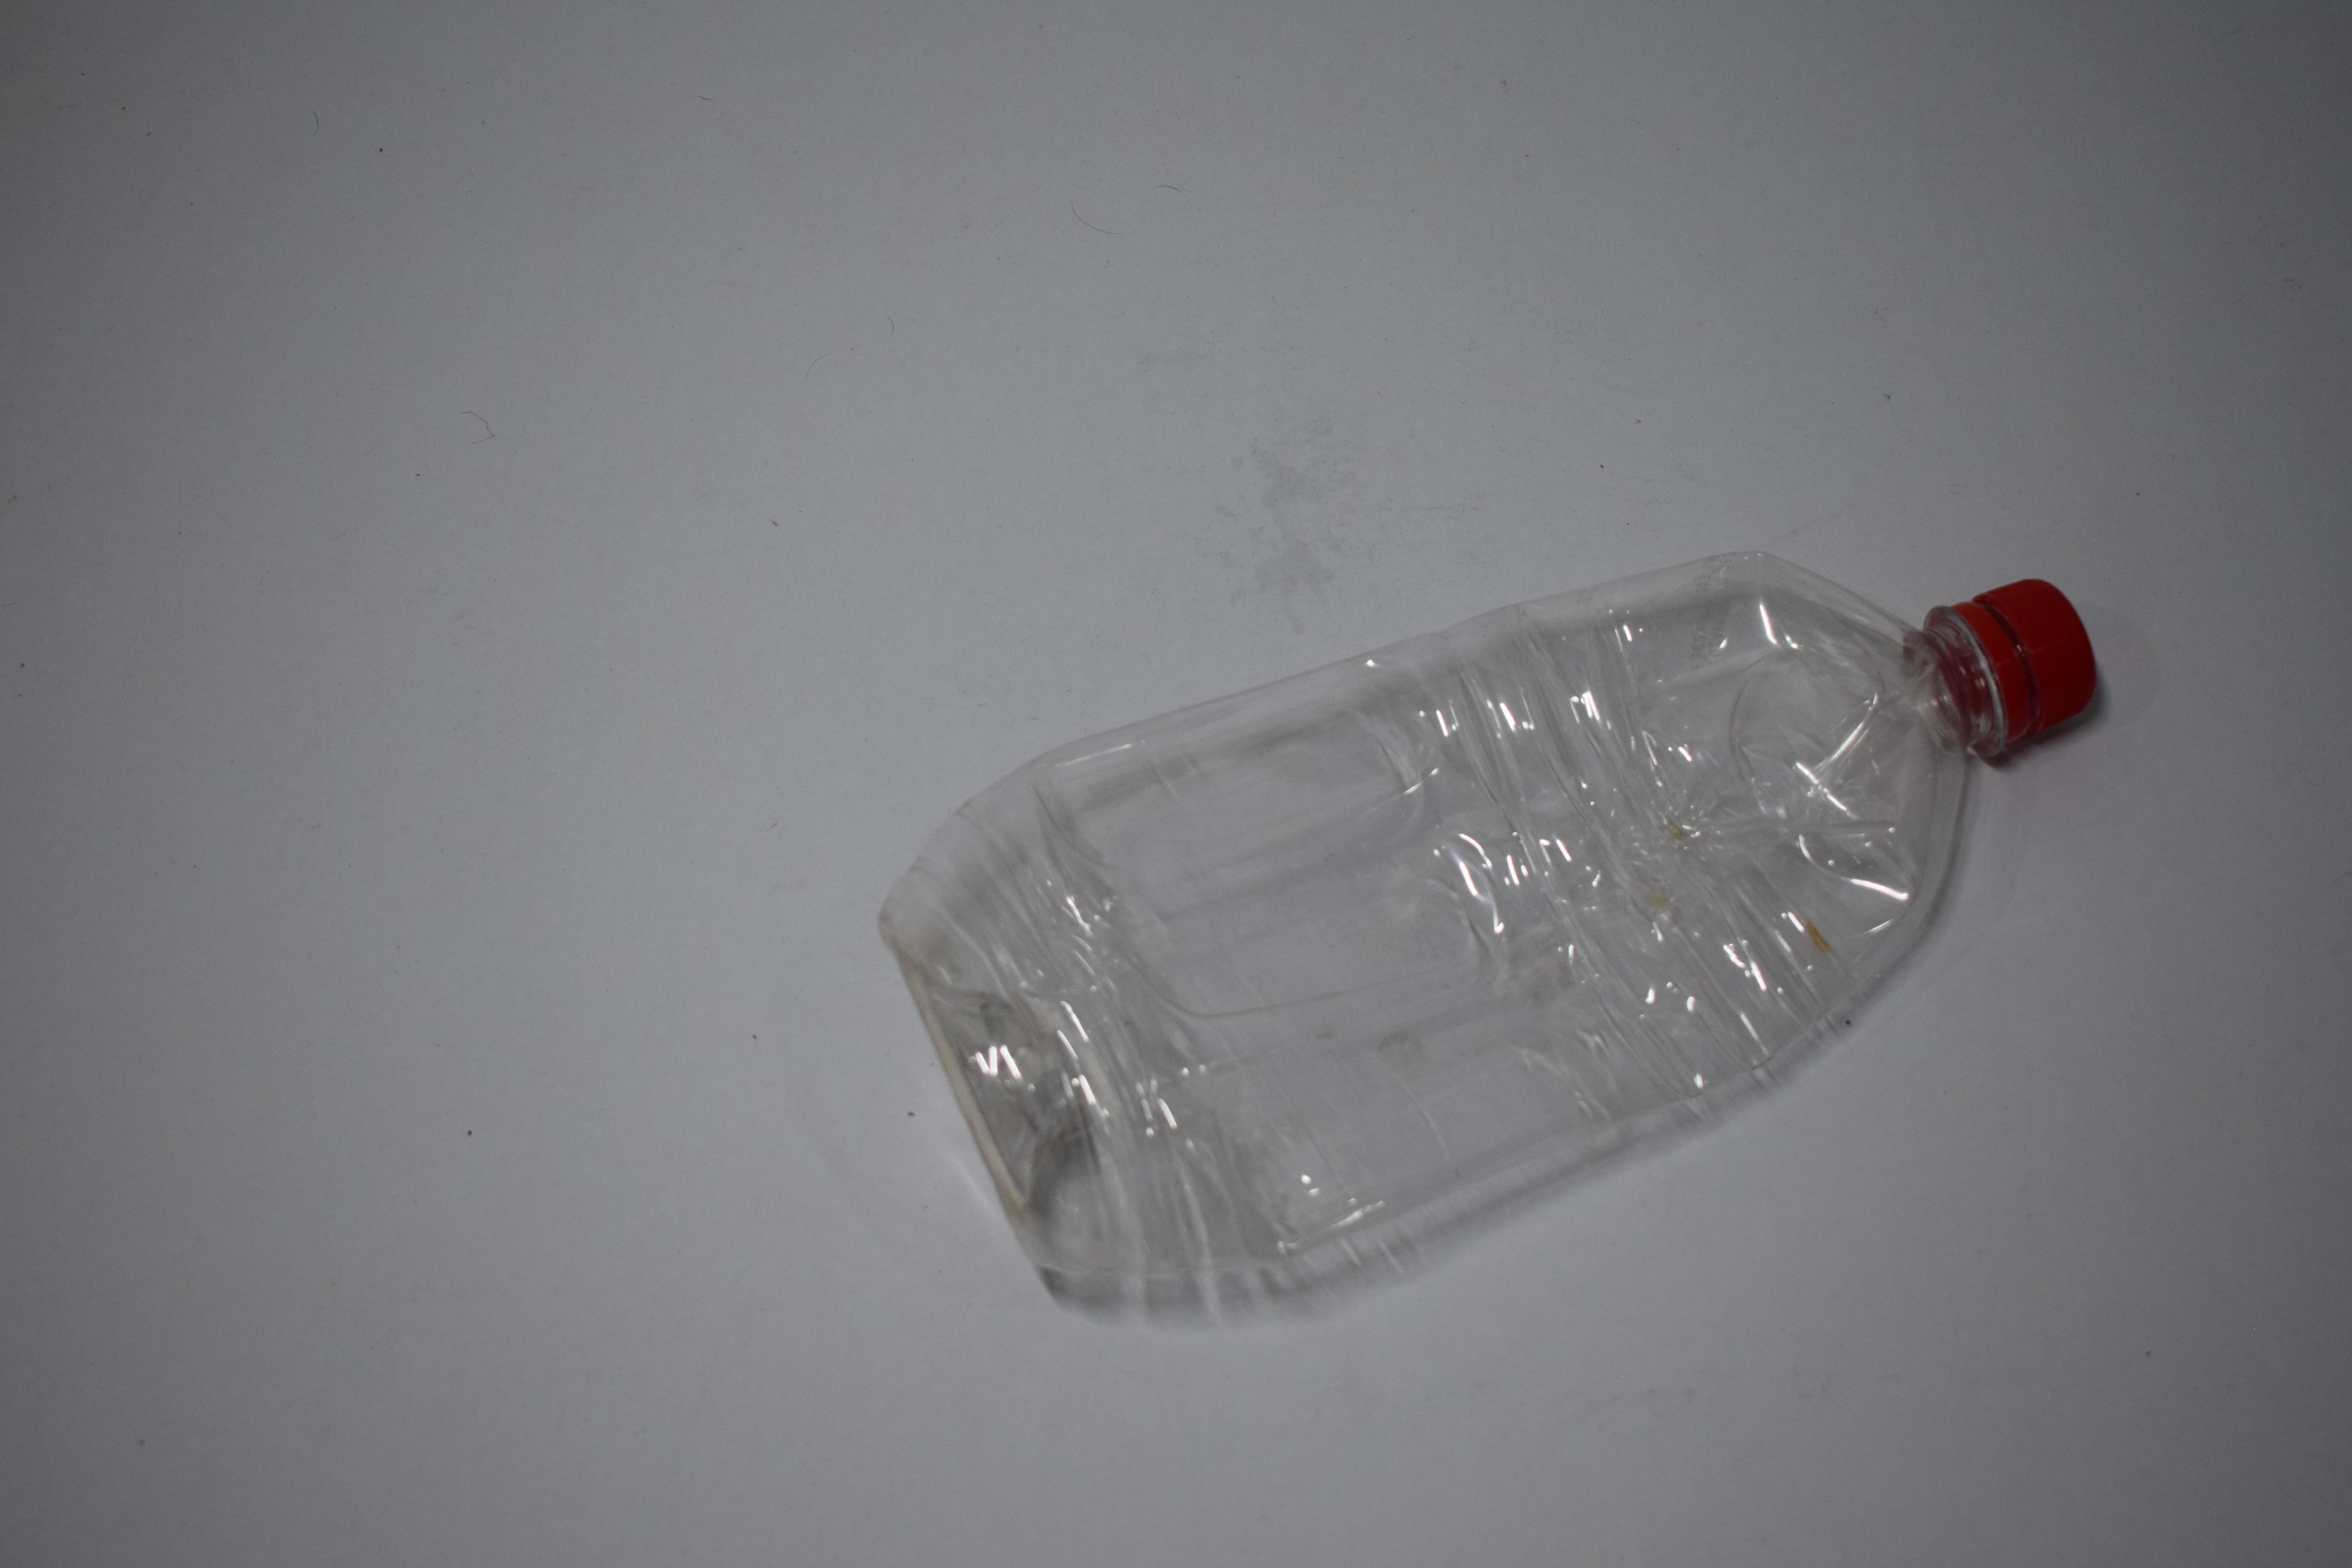bottle: (1468, 0, 1516, 516)
